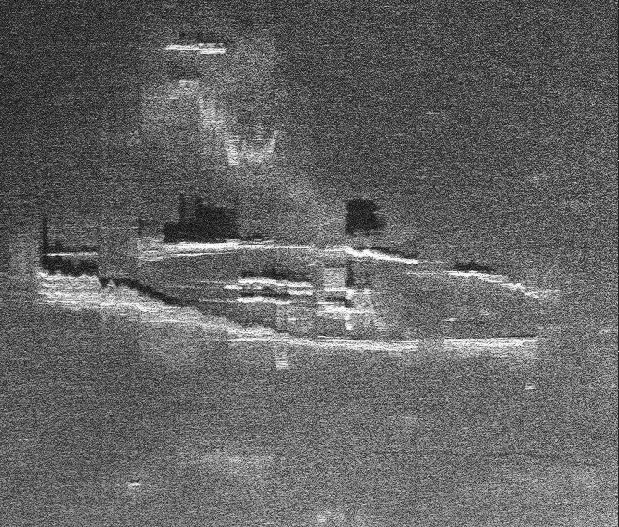ship: (38, 237, 558, 352)
